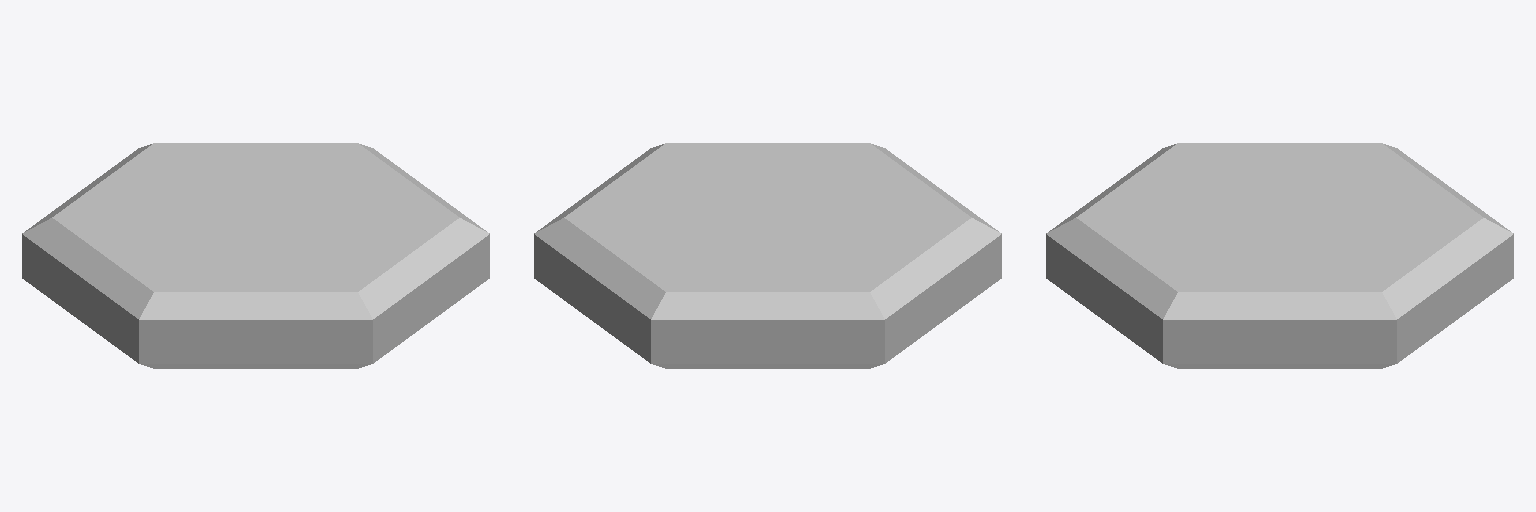
File: meat-patty.obj
3 views of the same model, side by side, from view 1: azimuth 30°, elevation 25°; view 2: azimuth 150°, elevation 25°; view 3: azimuth 270°, elevation 25° (orthographic).
Parts seen in each view (by area): view 1: meat-patty; view 2: meat-patty; view 3: meat-patty.
Boxes of the visible parts, <box> form: meat-patty: <box>22,143,489,368</box>; meat-patty: <box>534,143,1001,368</box>; meat-patty: <box>1046,143,1513,368</box>.
Size of the model in its own units: 0.2988 by 0.0624 by 0.345.